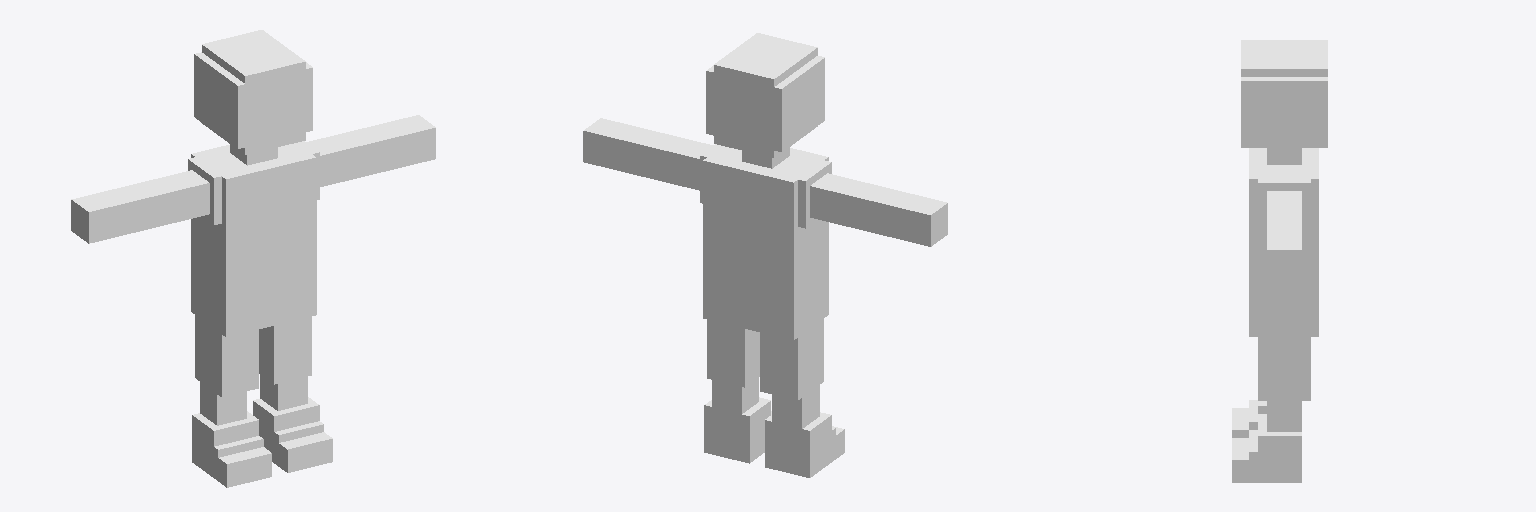
Rendered from dfvdfvdf.obj.
3 views of the same model, side by side, from view 1: azimuth 30°, elevation 25°; view 2: azimuth 150°, elevation 25°; view 3: azimuth 270°, elevation 25° (orthographic).
Parts seen in each view (by area): view 1: object 1; view 2: object 1; view 3: object 1.
Boxes of the visible parts, x1,y1,x2,y2 form: object 1: [71, 30, 435, 487]; object 1: [583, 33, 947, 477]; object 1: [1232, 40, 1327, 482].
Size of the model in its own units: 4.6 by 5.1 by 1.1.